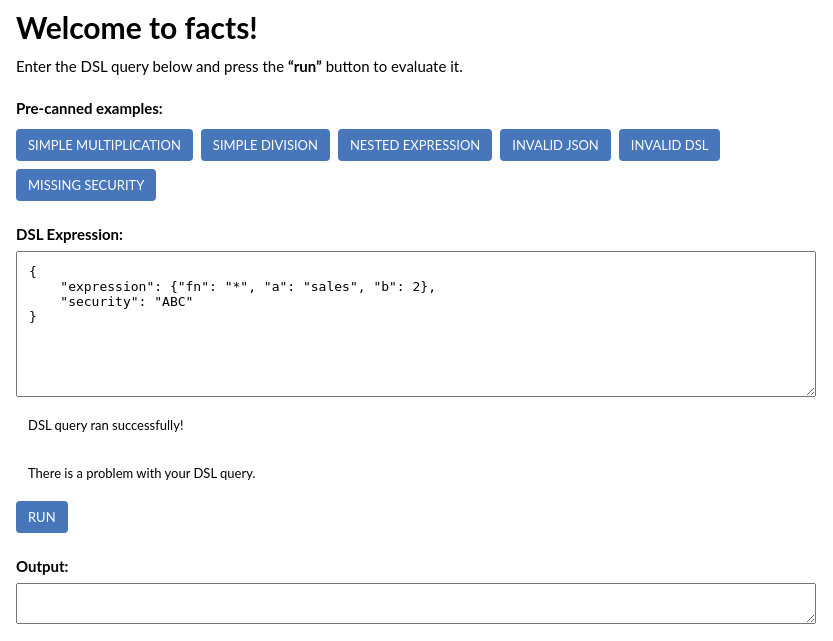
Test: Index page › should evaluate the expression when the "run" button is clicked for `divide` example
Set divide example
Click the button with test id "button-divide": point(265, 145) top-left (201, 129), bottom-right (330, 161)
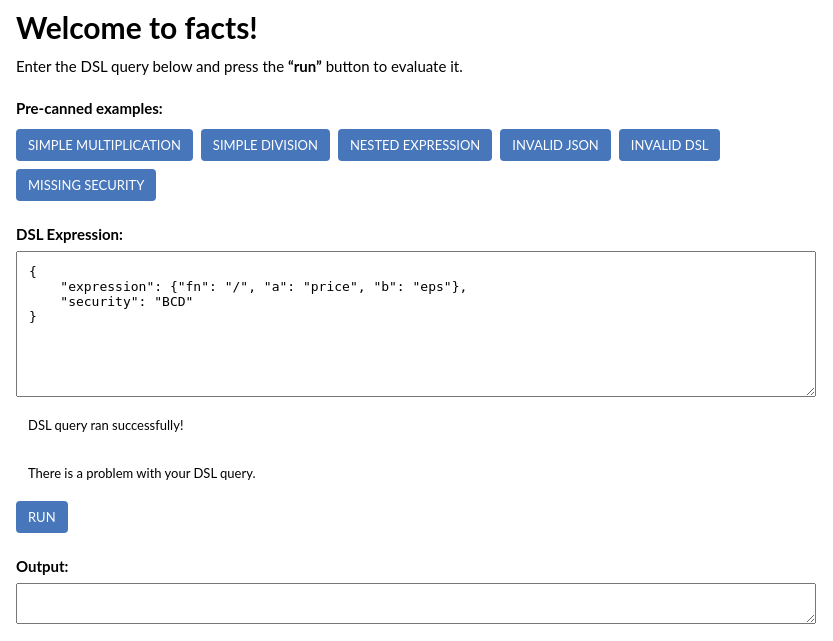
Expected: the text box with test id "output-text-area" is empty, top-left (16, 583), bottom-right (816, 624)
Press `run` button
Click the button with test id "run-button": point(42, 517) top-left (16, 501), bottom-right (68, 533)
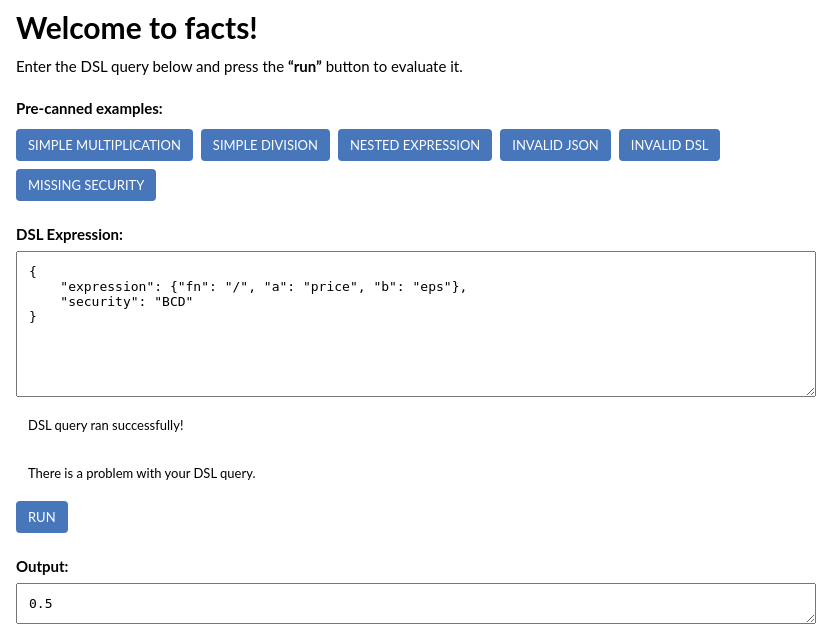
Now the text box with test id "output-text-area" is not empty, box top-left (16, 583), bottom-right (816, 624)
Now the text box with test id "output-text-area" holds "0.5", box top-left (16, 583), bottom-right (816, 624)
